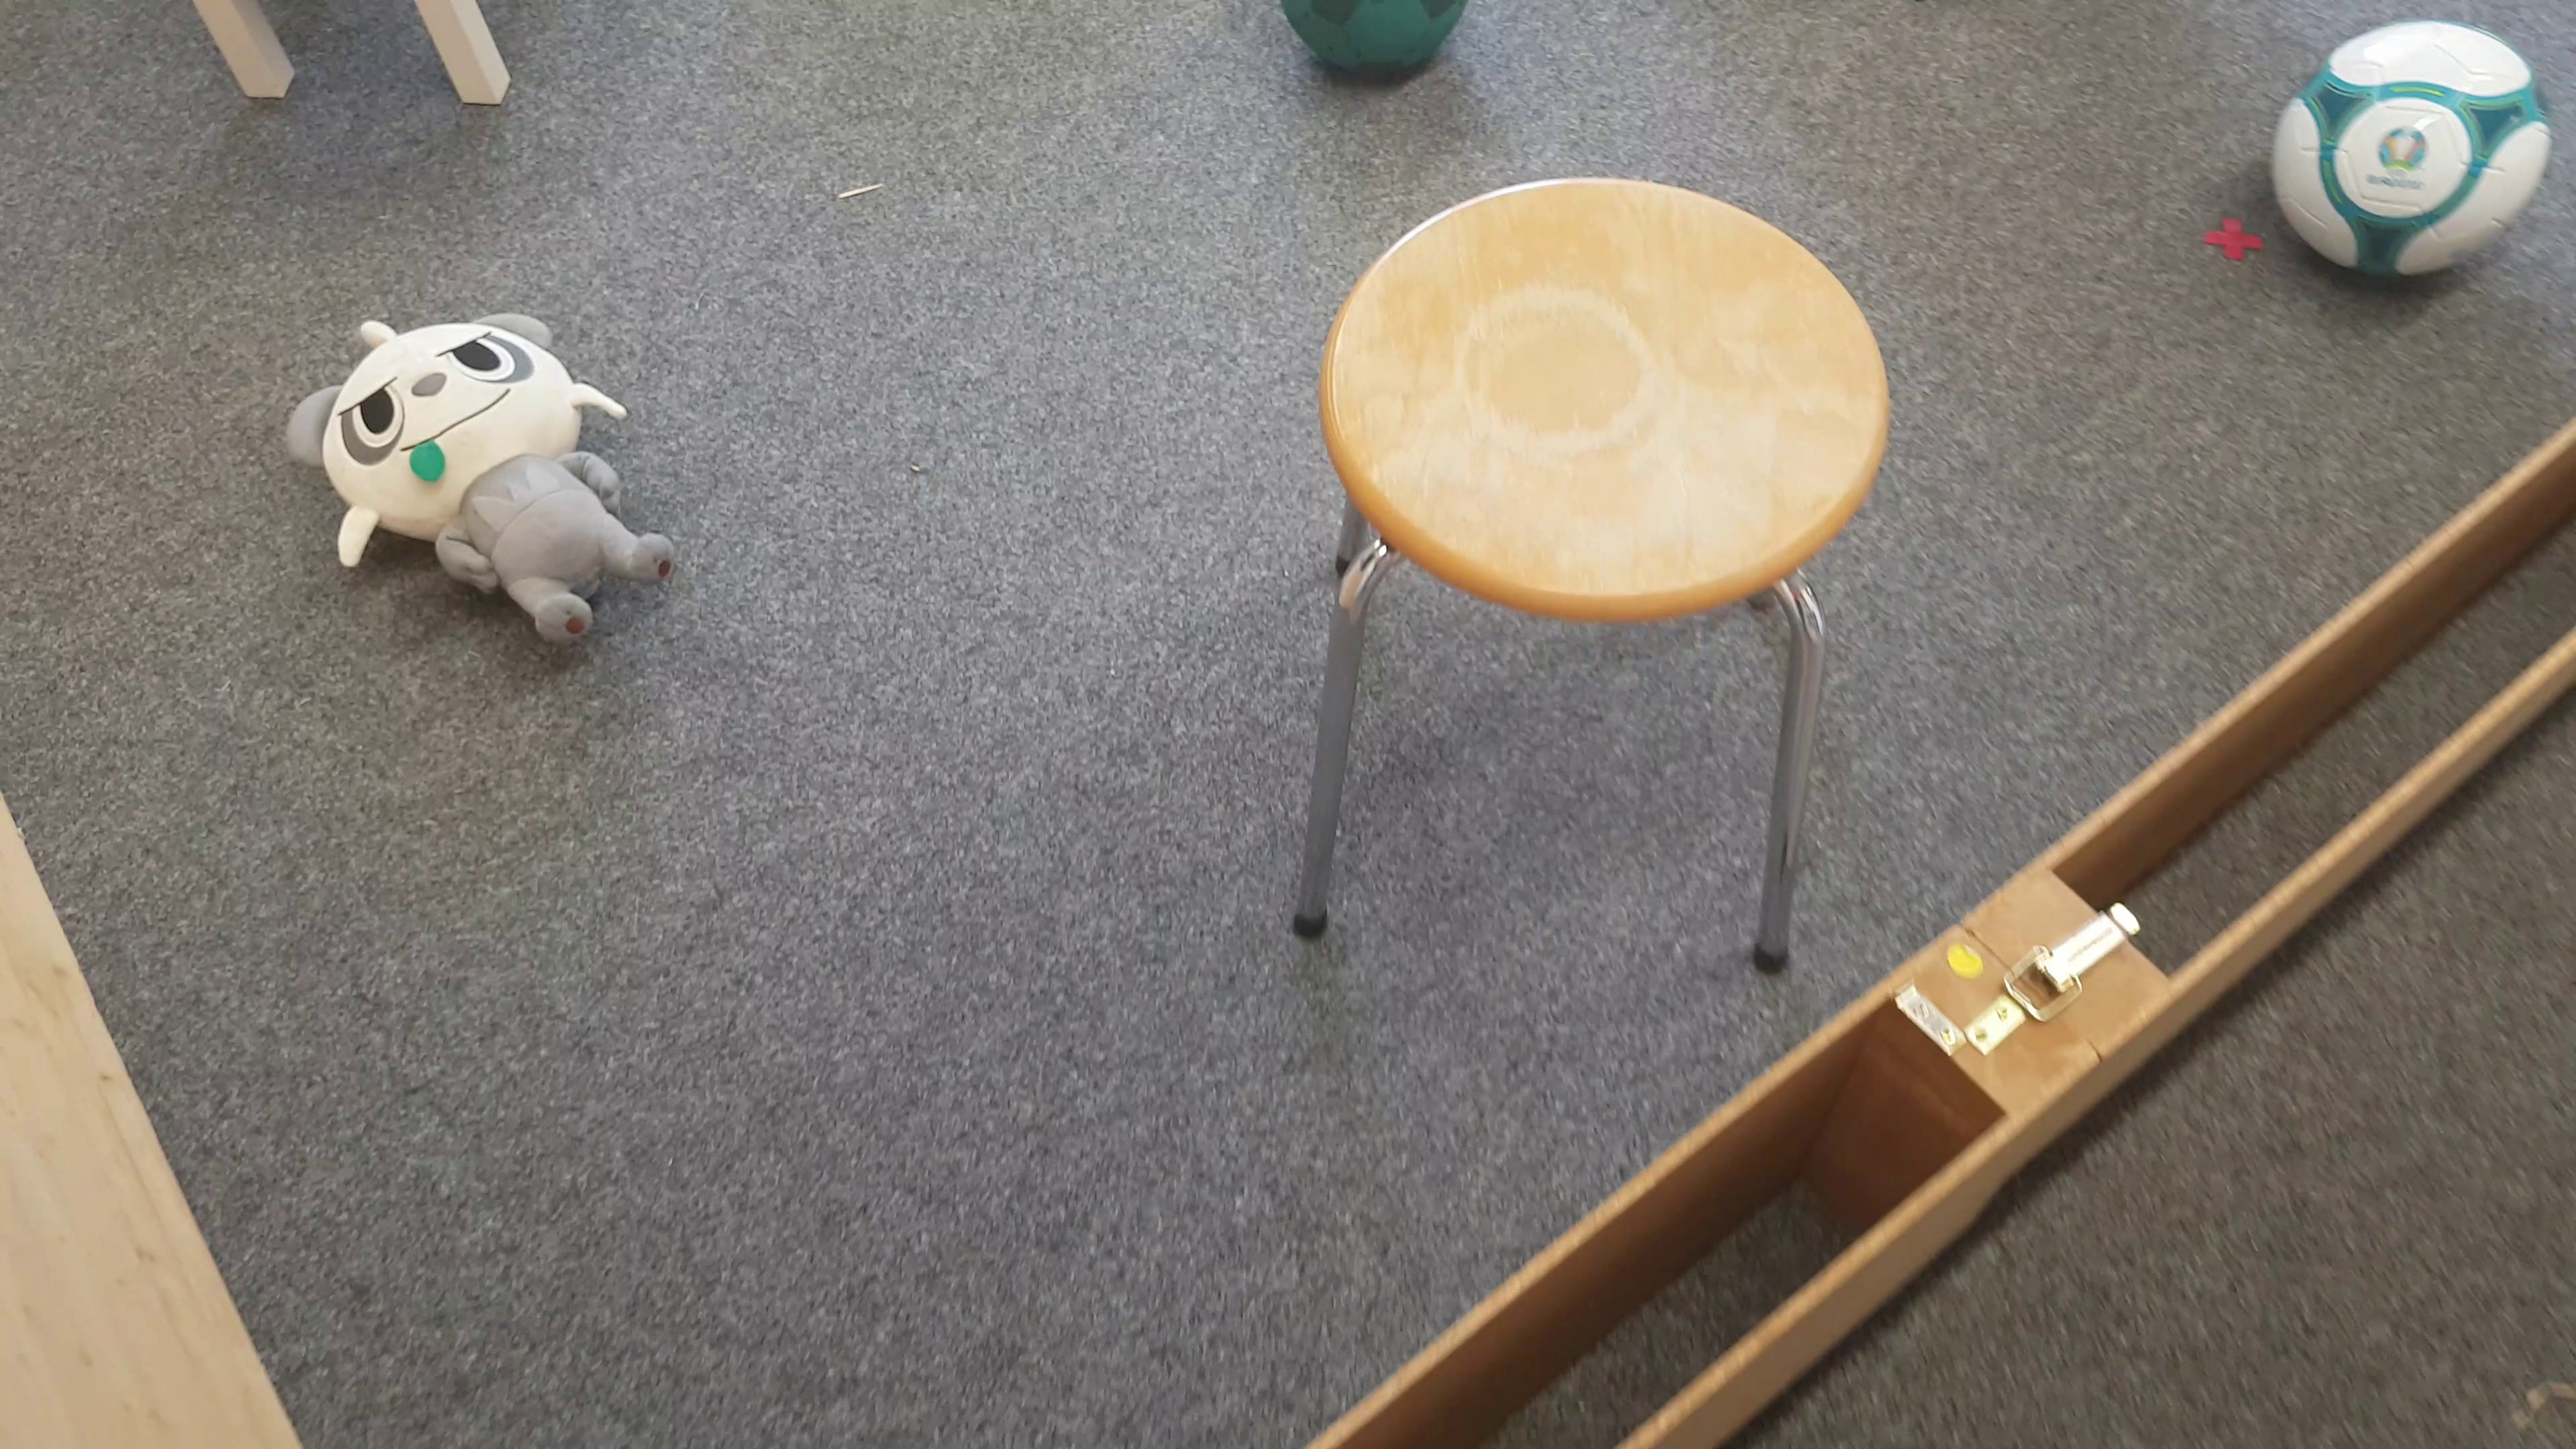grasp: (283, 313, 674, 649)
kick: (2268, 23, 2544, 280), (1283, 0, 1467, 85)
